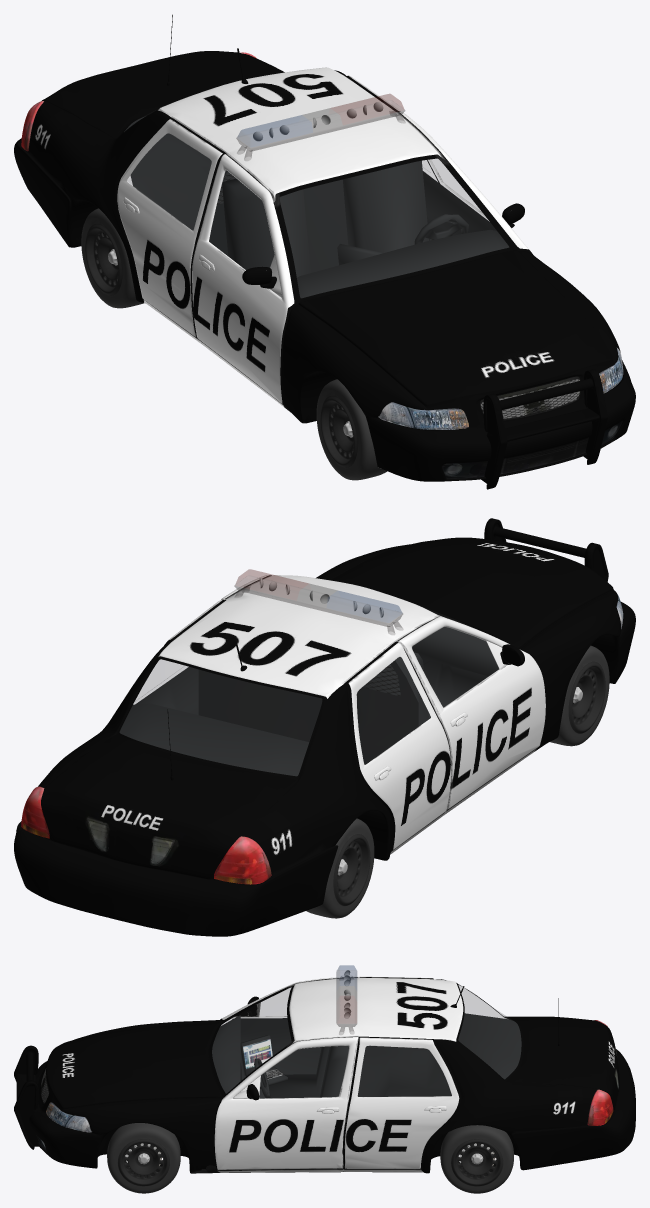
Rendered from copcar.glb.
The picture shows the model from 3 angles, top to bottom: view 1: azimuth 30°, elevation 25°; view 2: azimuth 150°, elevation 25°; view 3: azimuth 270°, elevation 25°; orthographic projection. The views are drawn at different scales.
Visible parts, largest first — view 1: CrownVic.Body, windows glass, interior, CrownVic.Wheel.Ft.R, Roof light bar, CrownVic.Wheel.Bk.R; view 2: CrownVic.Body, windows glass, interior, Roof light bar, CrownVic.Wheel.Bk.R, CrownVic.Wheel.Ft.R; view 3: CrownVic.Body, windows glass, interior, CrownVic.Wheel.Ft.L, CrownVic.Wheel.Bk.L, Roof light bar.
Part boxes in pixels (x1,y1,x2,y2): CrownVic.Body: (14, 14, 635, 489); windows glass: (126, 110, 508, 297); interior: (124, 116, 509, 298); CrownVic.Wheel.Ft.R: (316, 379, 387, 480); Roof light bar: (236, 94, 405, 160); CrownVic.Wheel.Bk.R: (81, 208, 144, 308); CrownVic.Body: (14, 518, 635, 936); windows glass: (120, 608, 498, 775); interior: (119, 627, 498, 776); Roof light bar: (234, 569, 403, 634); CrownVic.Wheel.Bk.R: (306, 818, 374, 918); CrownVic.Wheel.Ft.R: (550, 645, 609, 746); CrownVic.Body: (14, 976, 635, 1173); windows glass: (212, 985, 521, 1098); interior: (212, 1013, 521, 1098); CrownVic.Wheel.Ft.L: (107, 1123, 180, 1193); CrownVic.Wheel.Bk.L: (440, 1125, 513, 1193); Roof light bar: (336, 965, 356, 1034).
Size of the model in its own units: 2.48 by 1.98 by 6.7.
7 materials, 5 textured.
